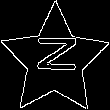N_W: (30, 40, 80, 81)
